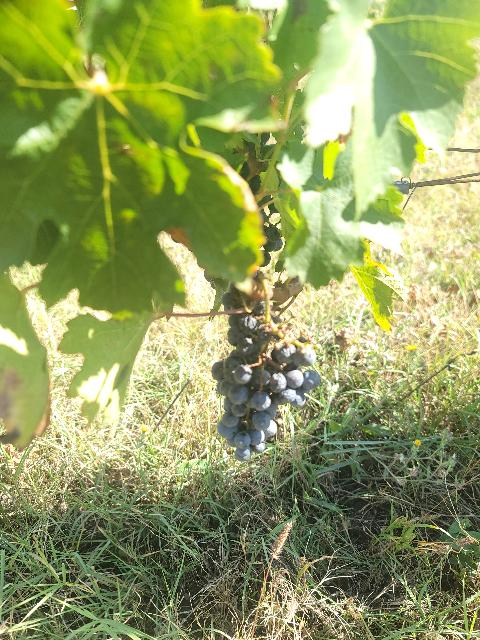grapes: (211, 312, 320, 461)
